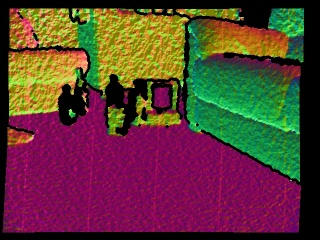station: (145, 78, 181, 126)
